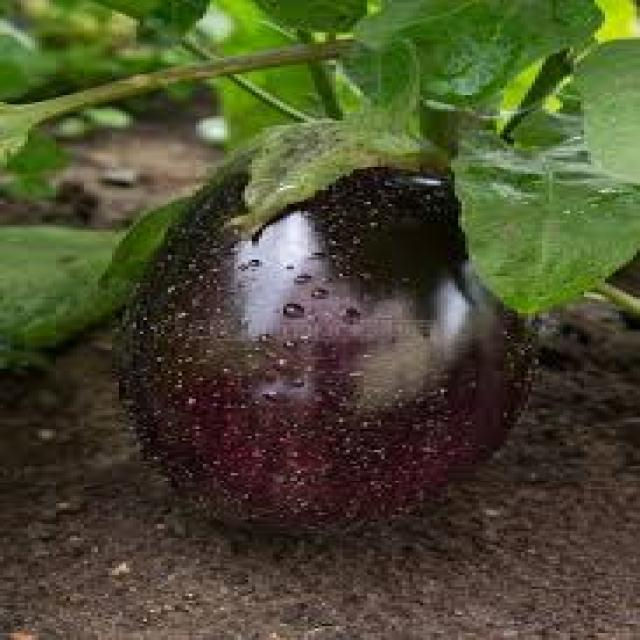Eggplant: (119, 39, 544, 552)
